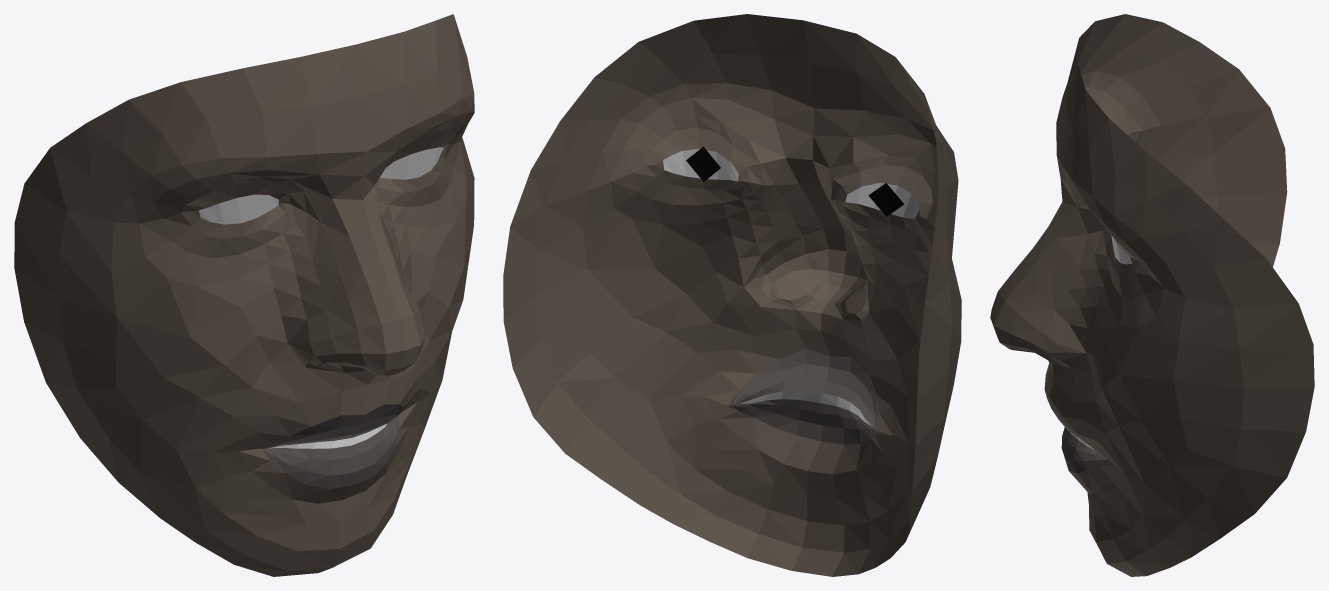
Rendered from worried.obj.
3 renders of one model, left to right at view 1: azimuth 30°, elevation 25°; view 2: azimuth 150°, elevation 25°; view 3: azimuth 270°, elevation 25°, orthographic. The views are drawn at different scales.
Parts seen in each view (by area): view 1: face_model_with_iris; view 2: face_model_with_iris; view 3: face_model_with_iris.
Part boxes in pixels (box(x1,y1,x2,y2)): face_model_with_iris: box(14, 14, 474, 576); face_model_with_iris: box(503, 14, 961, 576); face_model_with_iris: box(990, 14, 1314, 576).
Size of the model in its own units: 0.8019 by 1 by 0.5825.
